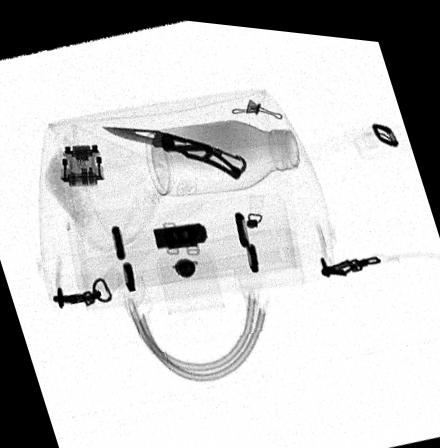Knife: (100, 123, 249, 175)
